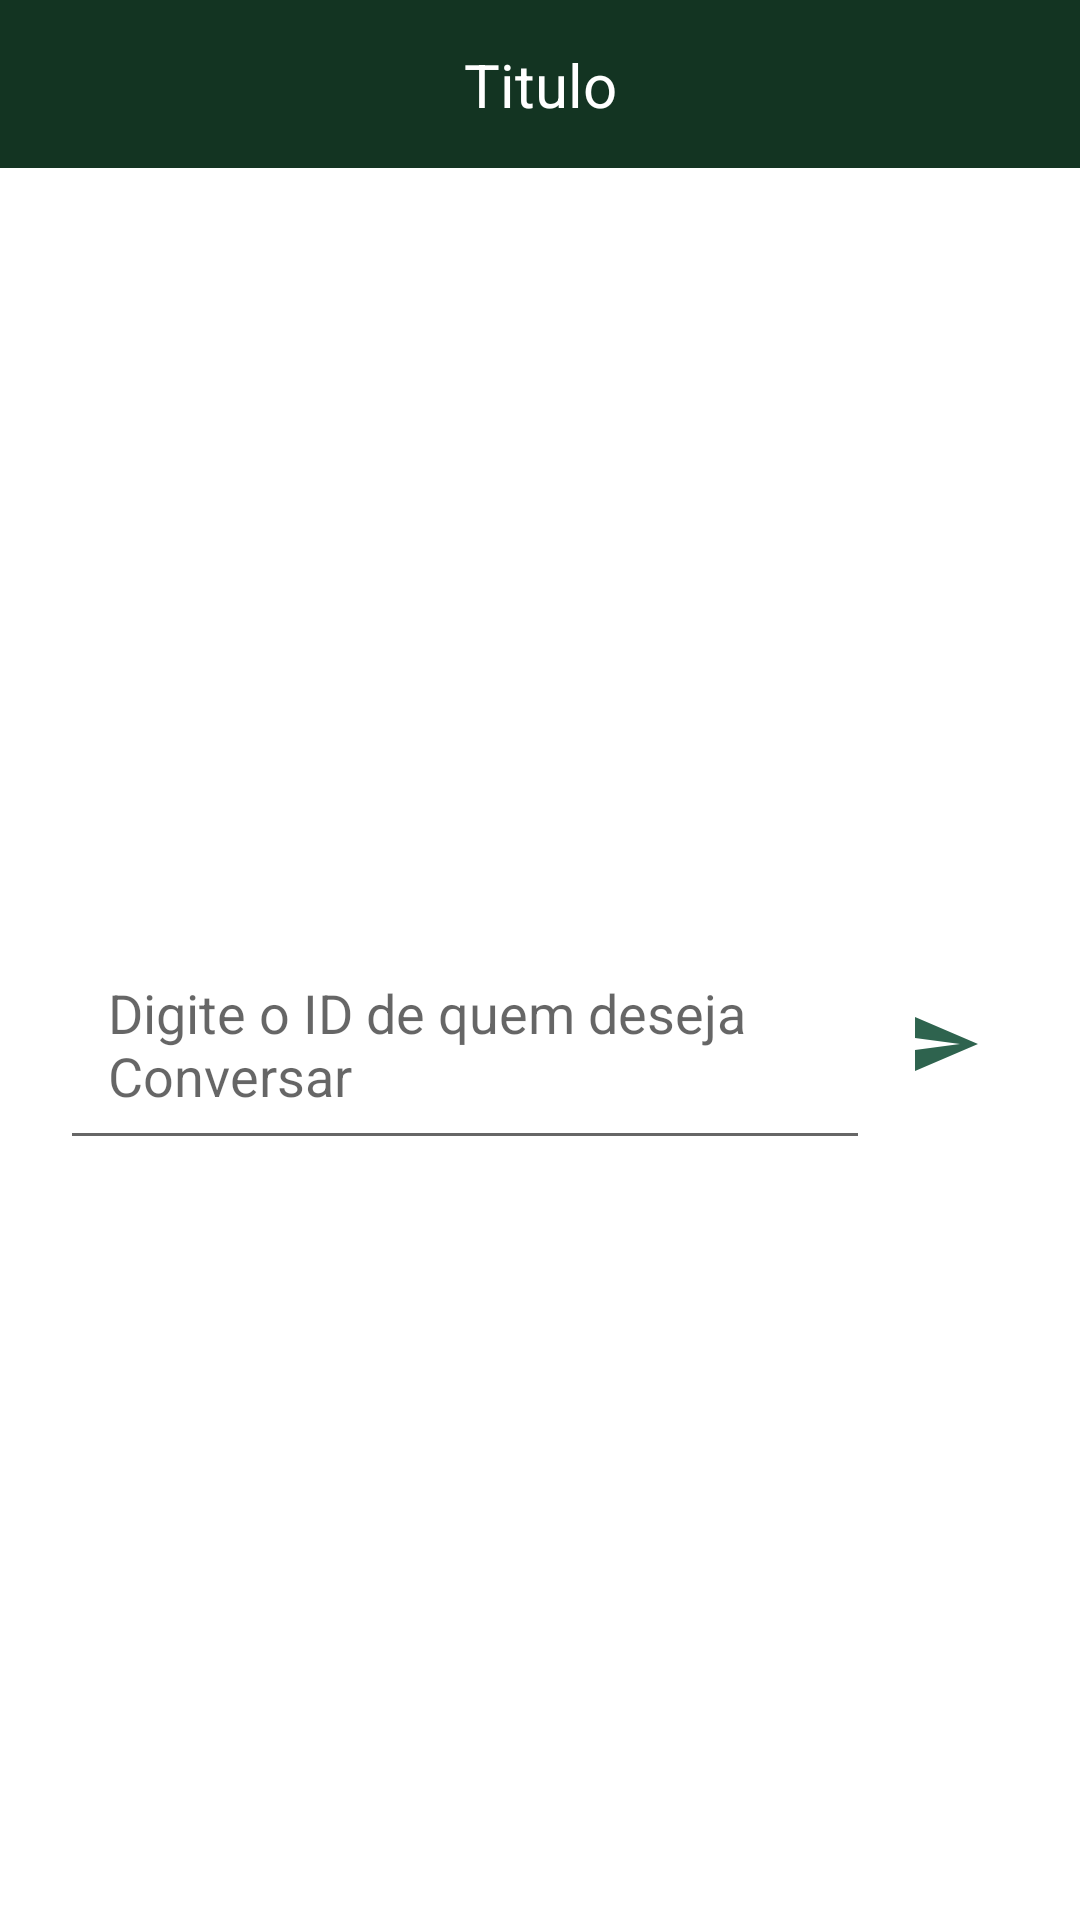

Where icons sit on this 1080px×1920px app screen, as (x1, y1, x2, y2):
send message: (915, 1017, 978, 1071)
